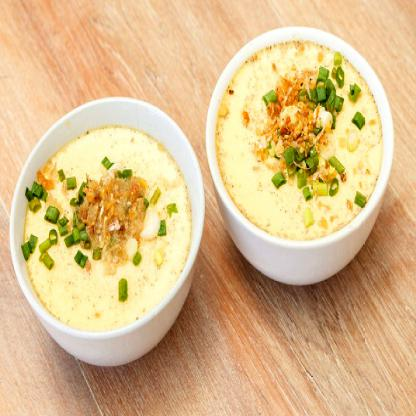Kaithoon: (17, 101, 200, 348), (207, 35, 389, 280)
